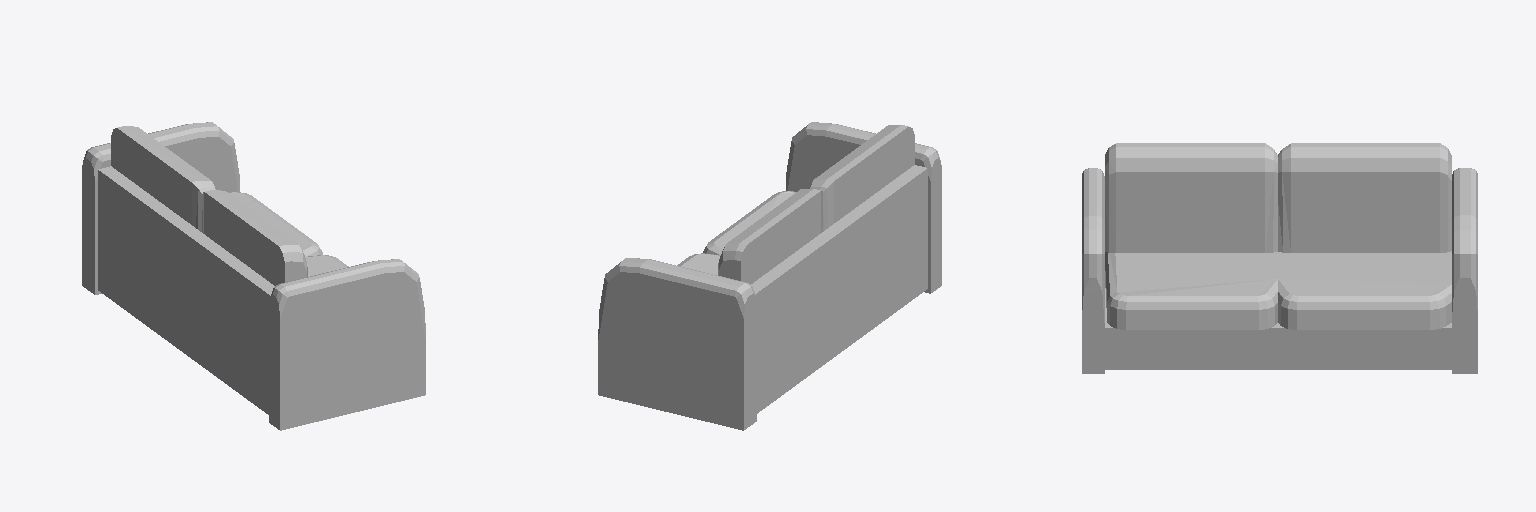
Rendered from Sofa03_2_green.obj.
3 views of the same model, side by side, from view 1: azimuth 30°, elevation 25°; view 2: azimuth 150°, elevation 25°; view 3: azimuth 270°, elevation 25° (orthographic).
Visible parts, largest first — view 1: Sofa03_2_Green_LOD0_divan_bed.005; view 2: Sofa03_2_Green_LOD0_divan_bed.005; view 3: Sofa03_2_Green_LOD0_divan_bed.005.
Part boxes in pixels (bbox=[...]): Sofa03_2_Green_LOD0_divan_bed.005: bbox=[82, 122, 425, 430]; Sofa03_2_Green_LOD0_divan_bed.005: bbox=[598, 122, 941, 430]; Sofa03_2_Green_LOD0_divan_bed.005: bbox=[1082, 143, 1477, 373].
Bounding box in the file's own units: 0.8384 × 0.8957 × 1.92.